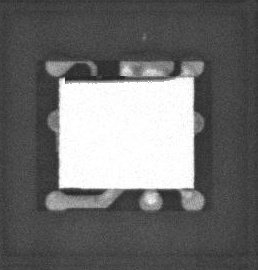DIE_BROKEN: (63, 74, 176, 85)
